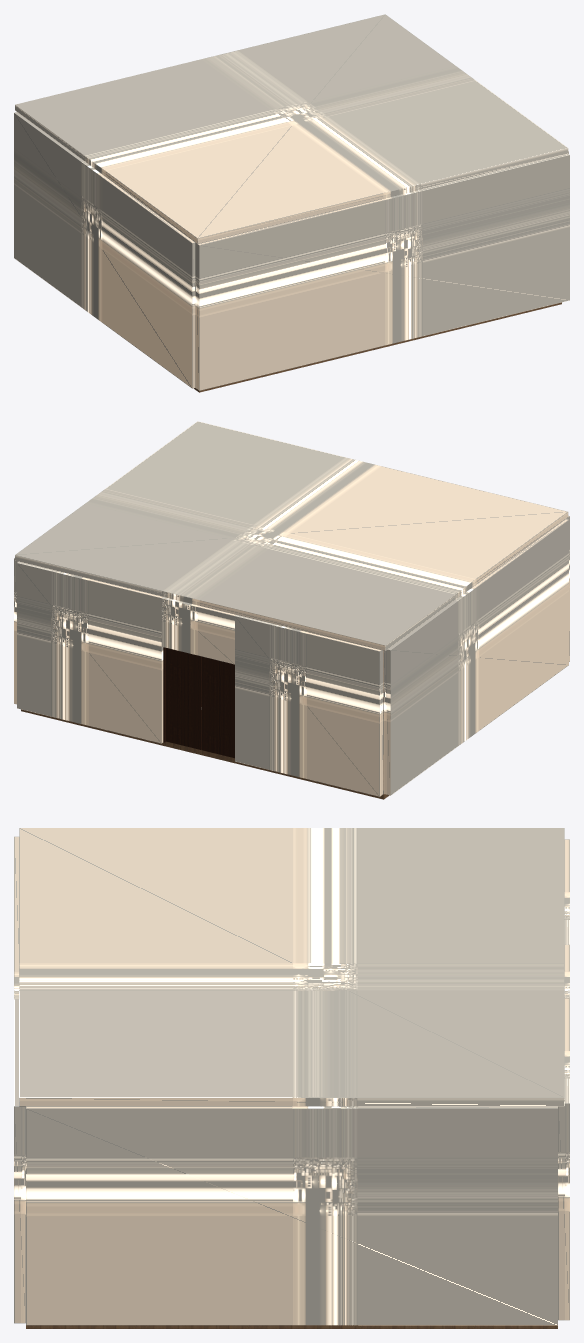
3 views of the same model, one above another, from view 1: azimuth 30°, elevation 25°; view 2: azimuth 150°, elevation 25°; view 3: azimuth 270°, elevation 25° (orthographic). The views are drawn at different scales.
Visible parts, largest first — view 1: room-shell.ceiling, room-shell.front, room-shell.left, room-shell.floor; view 2: room-shell.ceiling, room-shell.left, room-shell.rear-left, room-shell.rear-right, room-shell.door-header, main-door.leaf-1, main-door.leaf--1, room-shell.floor; view 3: room-shell.ceiling, room-shell.right, room-shell.front, room-shell.rear-right, room-shell.floor, room-shell.rear-left.
Boxes of the visible parts, x1,y1,x2,y2 form: room-shell.ceiling: (15, 14, 568, 243); room-shell.front: (195, 154, 569, 390); room-shell.left: (14, 112, 195, 388); room-shell.floor: (194, 302, 561, 392); room-shell.ceiling: (15, 421, 568, 650); room-shell.left: (384, 519, 568, 795); room-shell.rear-left: (235, 615, 383, 796); room-shell.rear-right: (17, 561, 163, 743); room-shell.door-header: (161, 597, 236, 664); main-door.leaf-1: (166, 648, 201, 749); main-door.leaf--1: (201, 656, 234, 758); room-shell.floor: (21, 651, 389, 799); room-shell.ceiling: (19, 828, 564, 1106); room-shell.right: (26, 1106, 557, 1325); room-shell.front: (14, 836, 25, 1323); room-shell.rear-right: (558, 998, 569, 1320); room-shell.floor: (26, 1325, 557, 1328); room-shell.rear-left: (564, 839, 569, 944).
Size of the model in its own units: 9.76 by 3.88 by 8.36.
14 materials, 9 textured.
